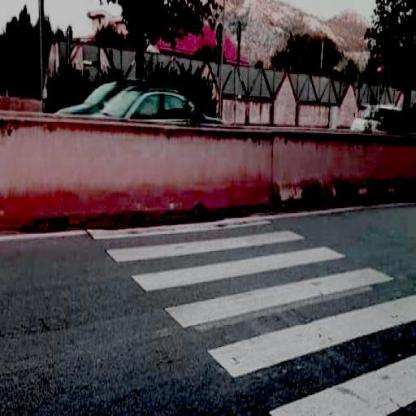crosswalk: (129, 243, 397, 334)
